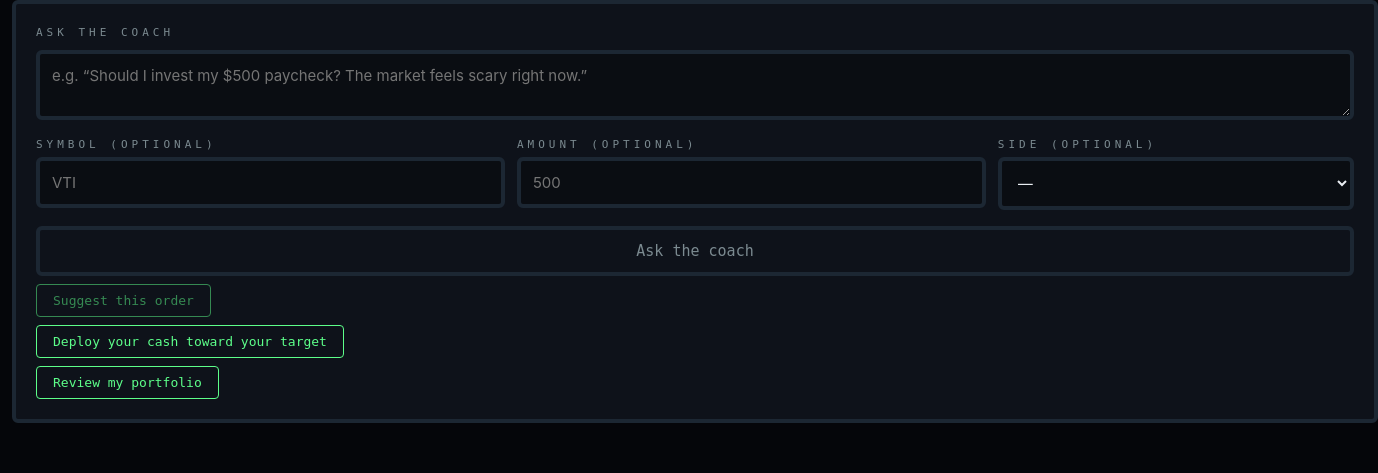
CoachConsult — live propose → approve/decline › recommend transport failure → calm fallback (no error dump)
Replace the text in the text box with test id "coach-ask-input" with "Anything at all". click: [695, 85]
box: [36,50,1354,120]
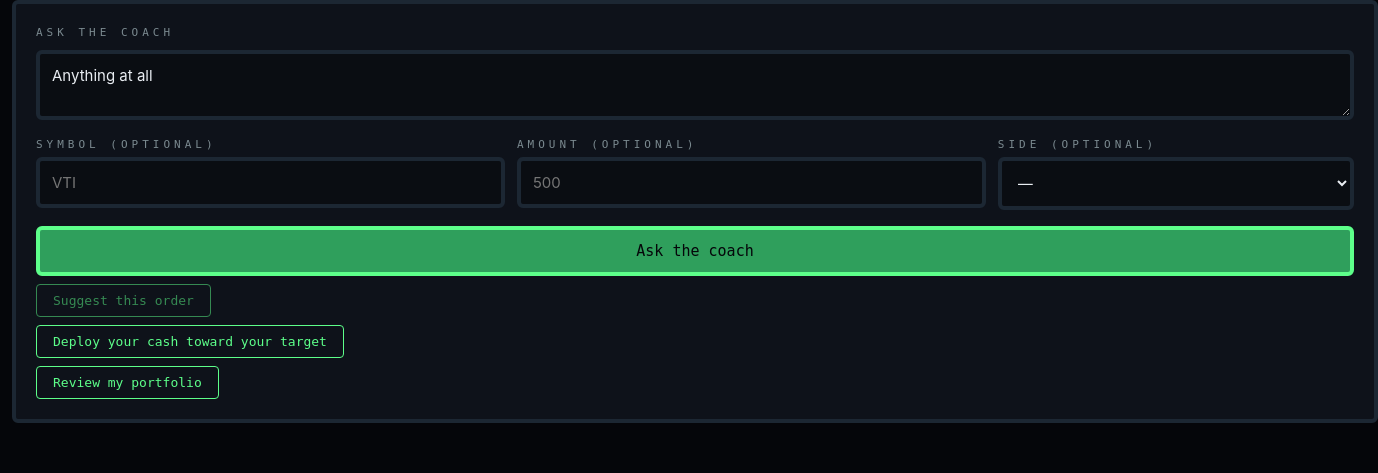
Click the button with test id "coach-ask-submit". click: [695, 251]
box: [36,226,1354,276]
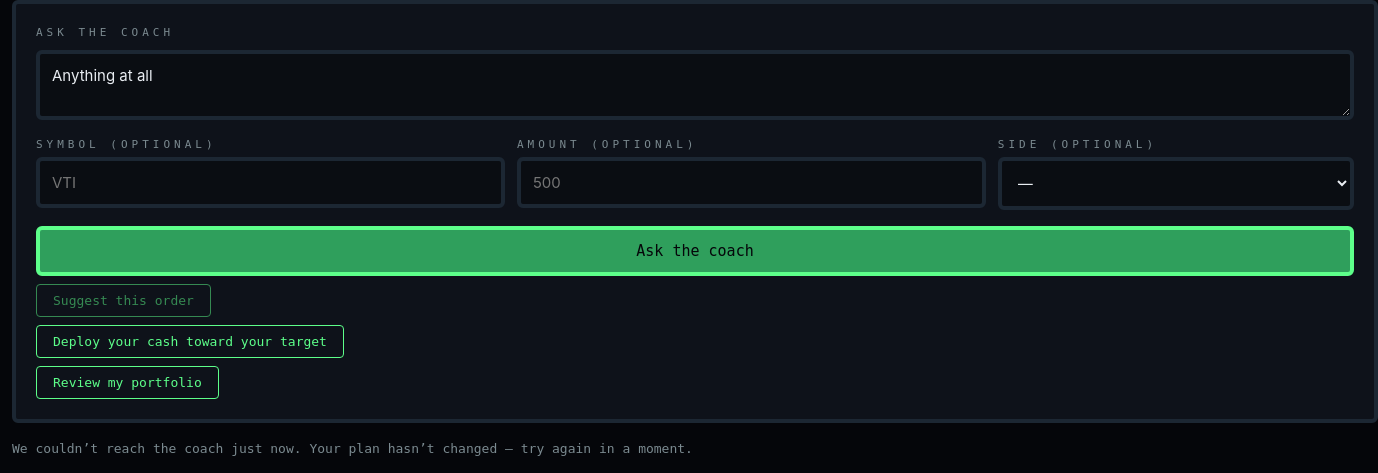
Now the message with test id "coach-recommend-failed" shows "your plan hasn.t changed", box [12,441,693,456]
